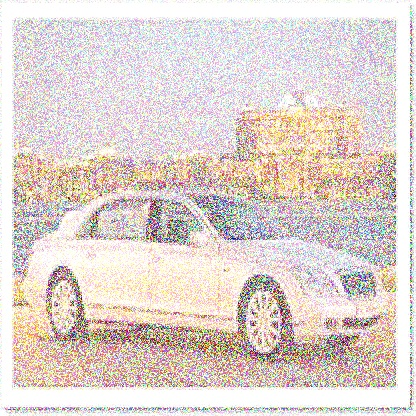Vehicle: (22, 179, 396, 361)
